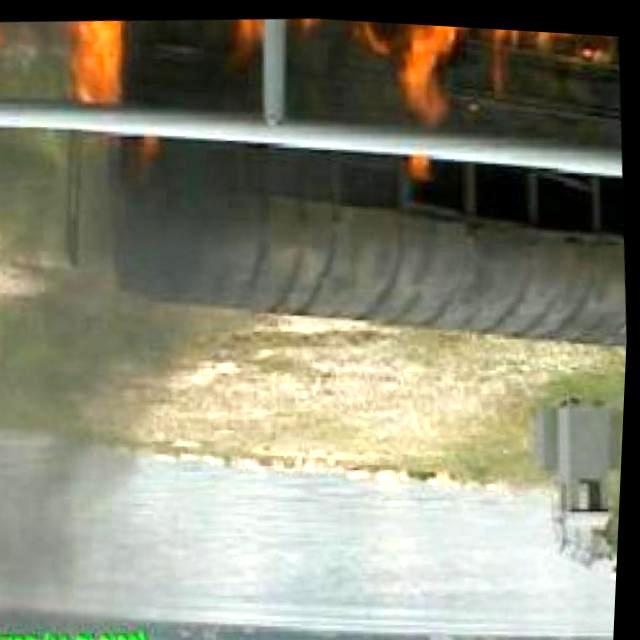fire: (354, 17, 622, 109), (0, 10, 164, 106), (224, 10, 344, 70)
